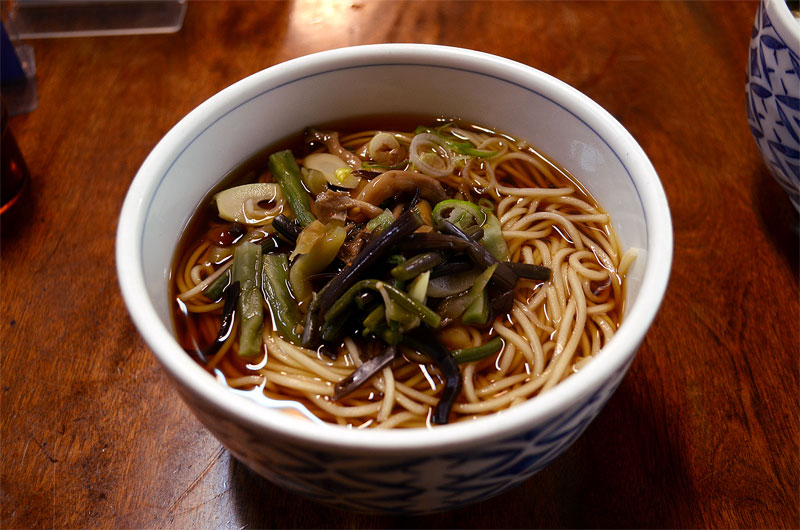Soba: (191, 129, 638, 426)
